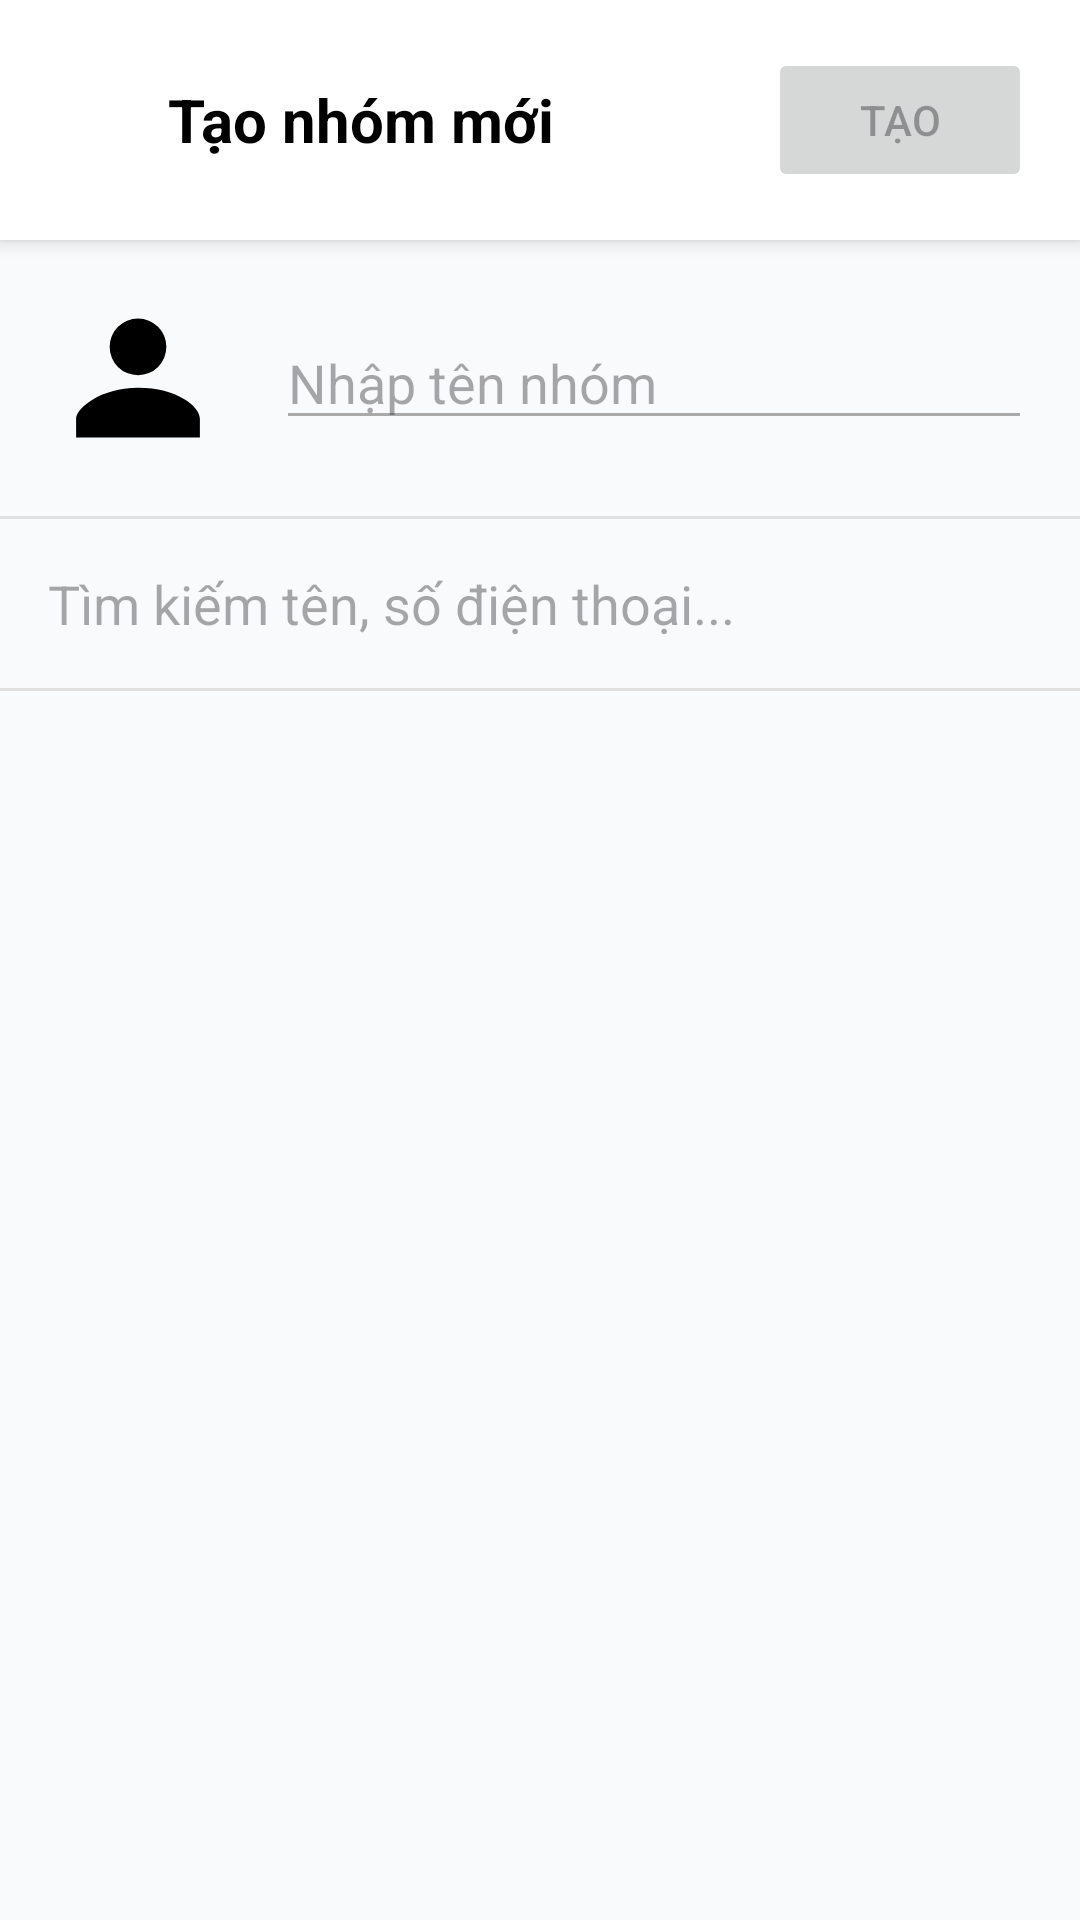

Locate icon controls on the screen. Image size 1080x1920, boxes as (x1, y1, x2, y2).
person: (76, 318, 200, 438)
